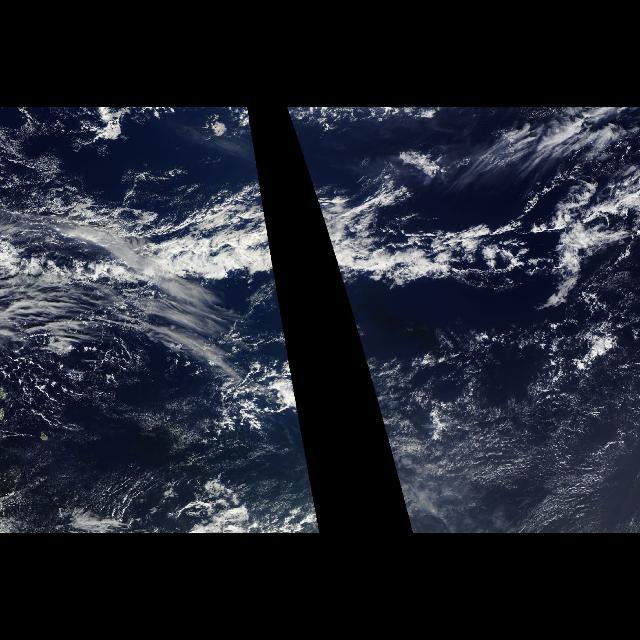Fish: (303, 160, 615, 338), (31, 160, 288, 338)
Sugar: (355, 328, 639, 534)
